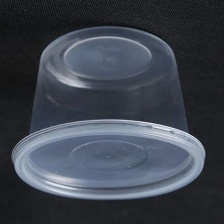plastic_box: (5, 19, 211, 208)
